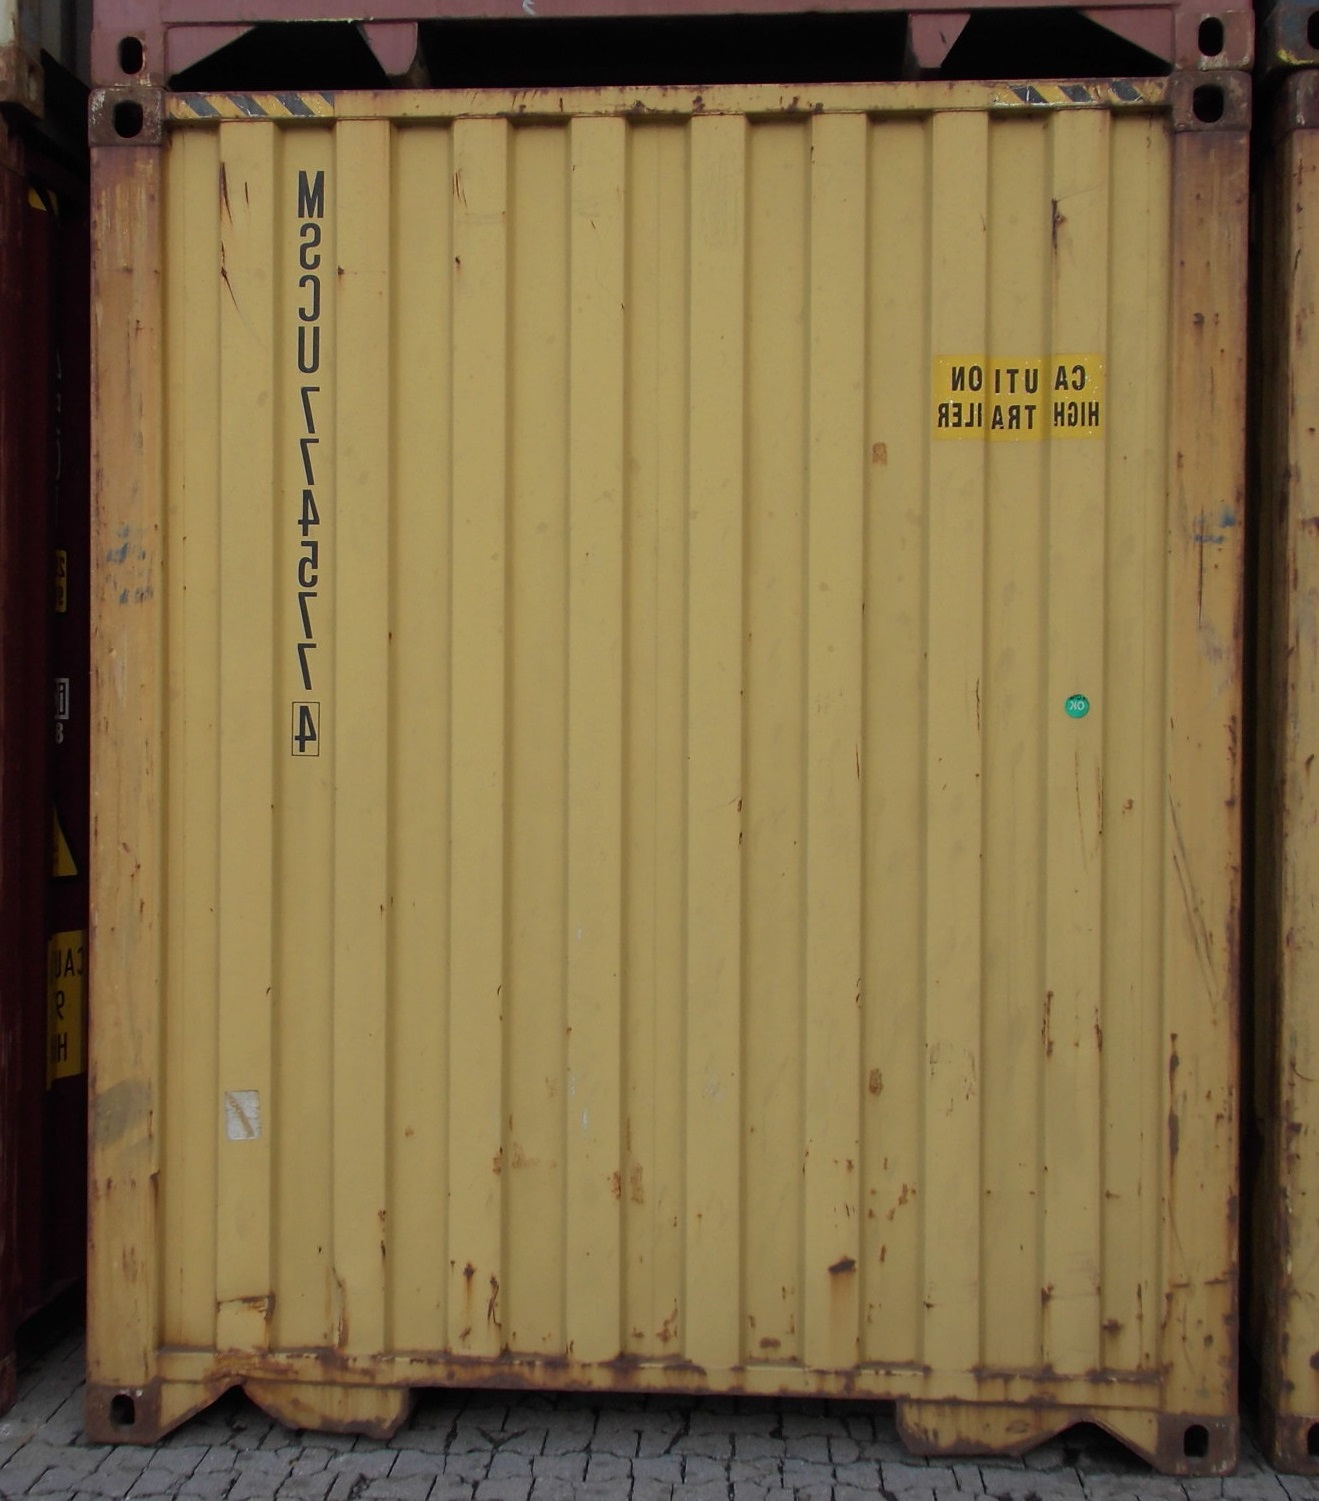container_no_door: (96, 84, 1240, 1475)
